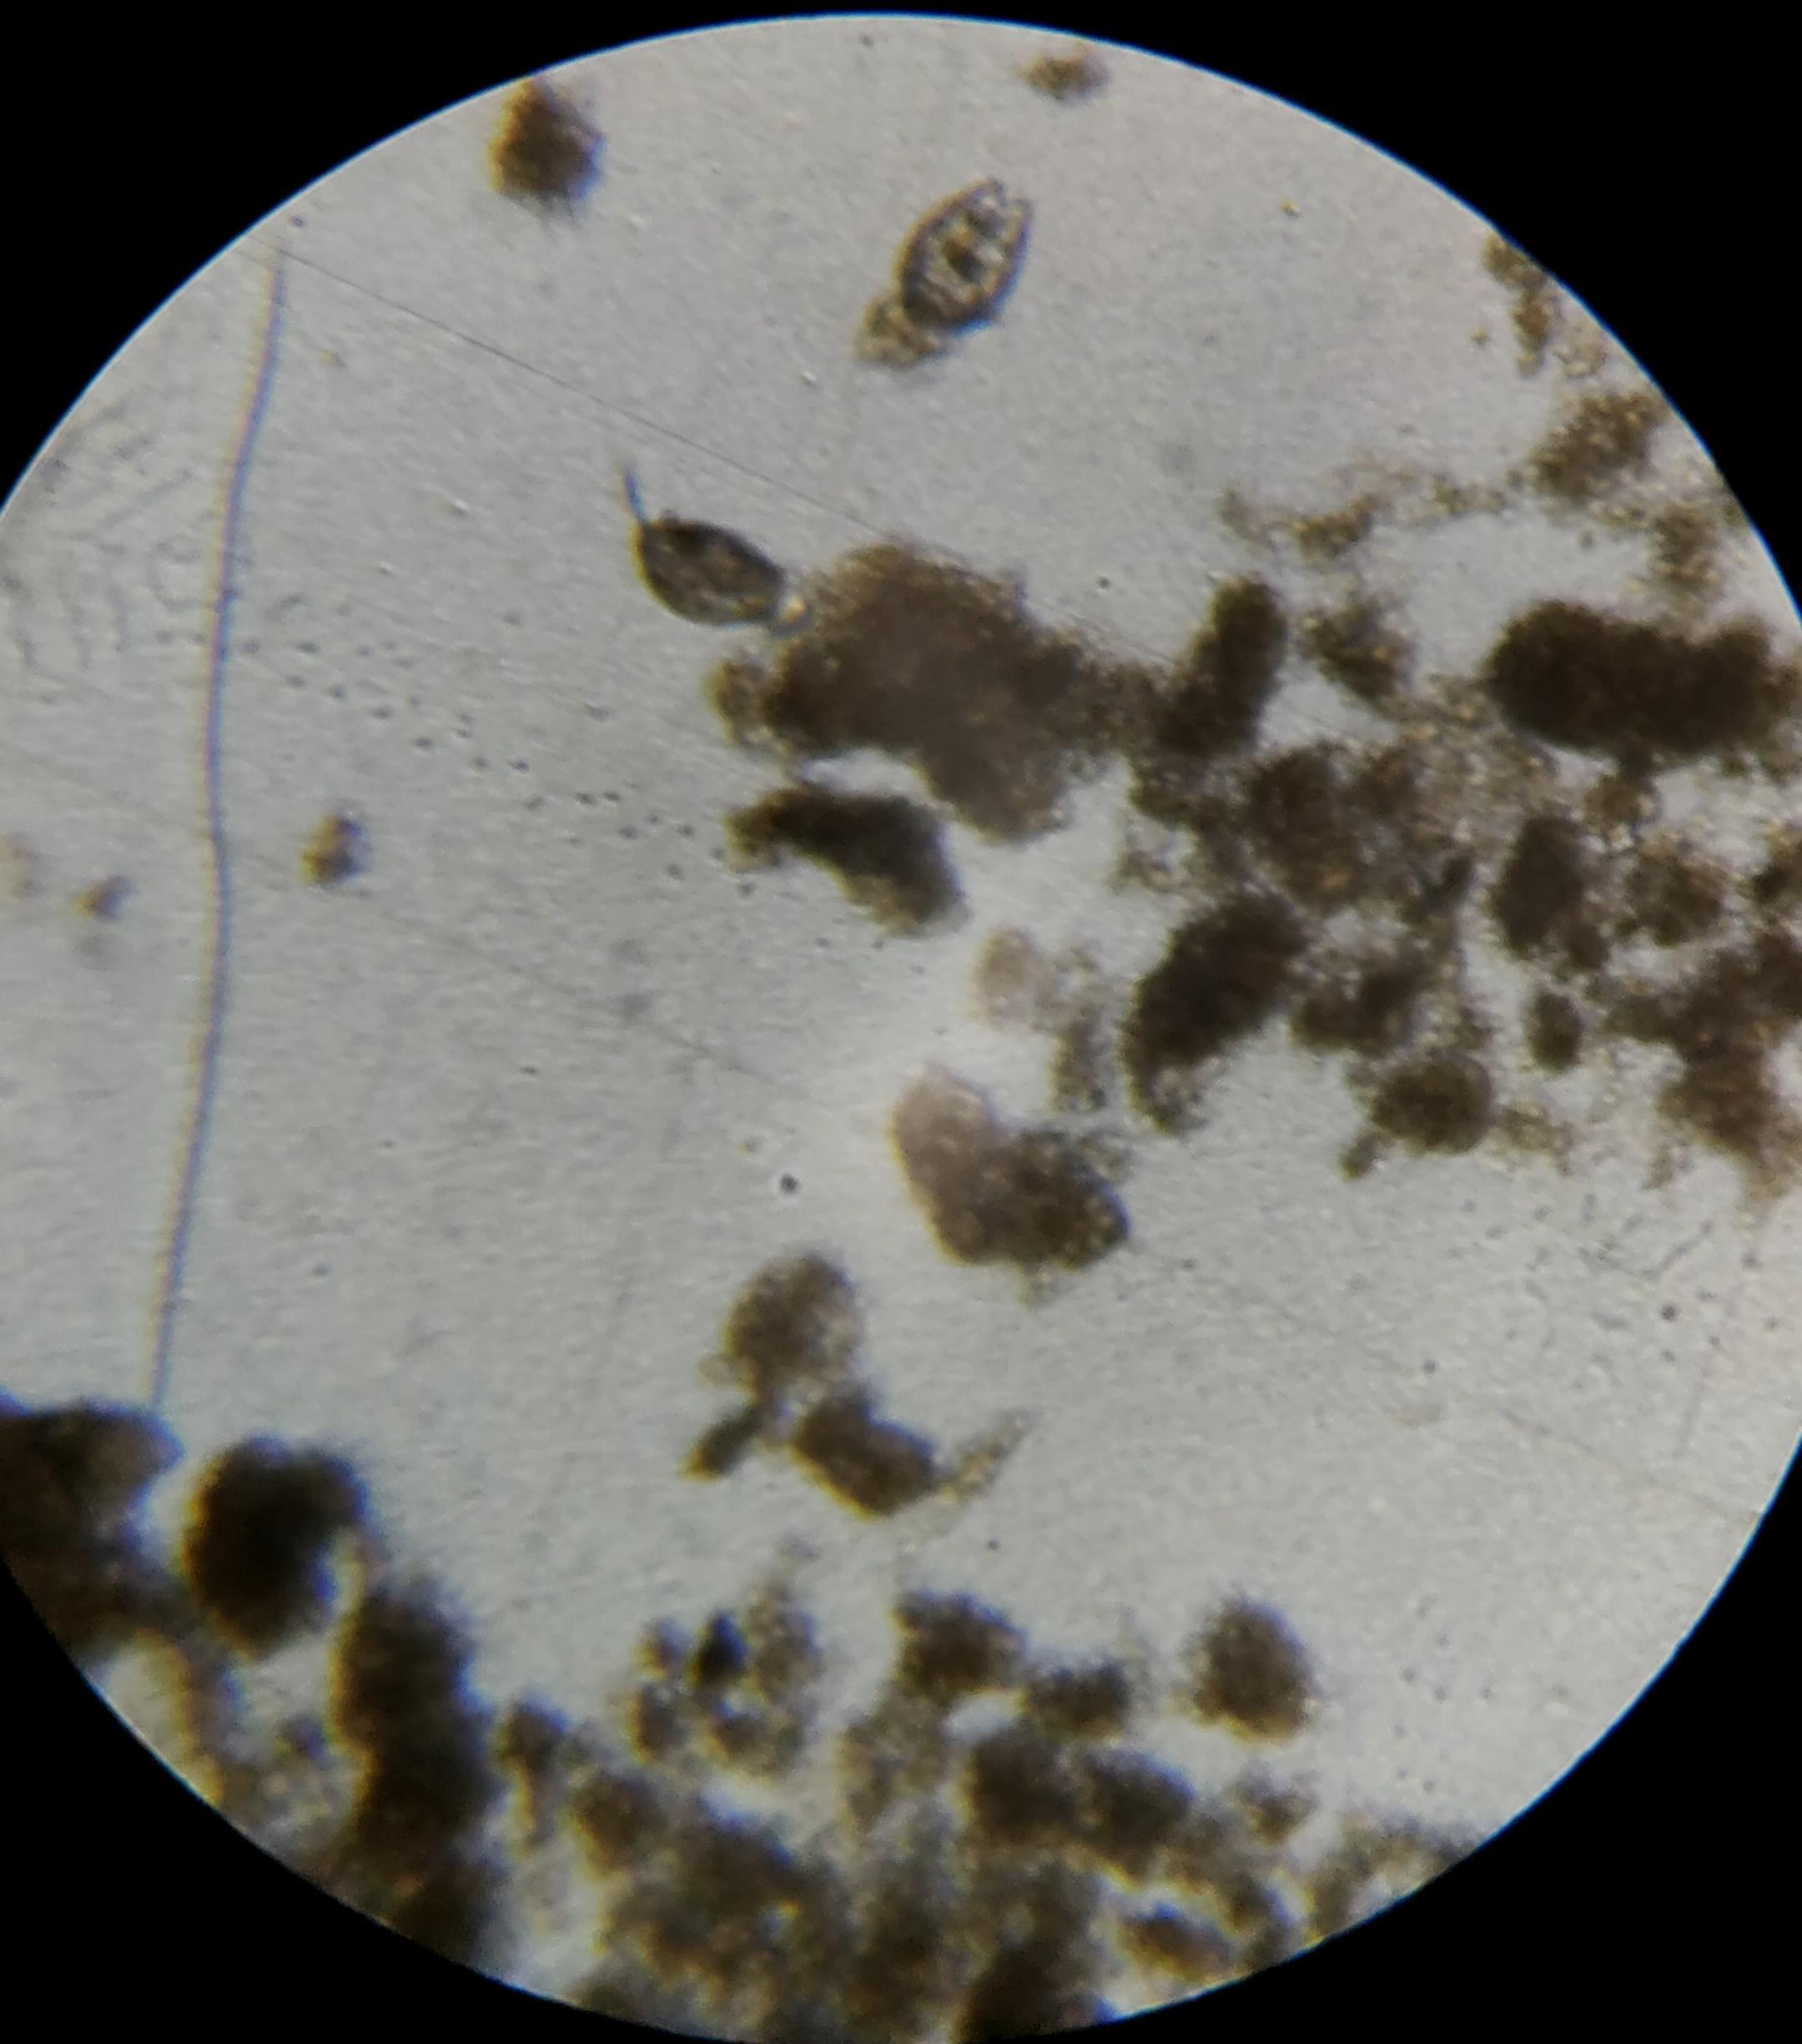Mo: (626, 466, 784, 625), (898, 177, 1033, 331)
